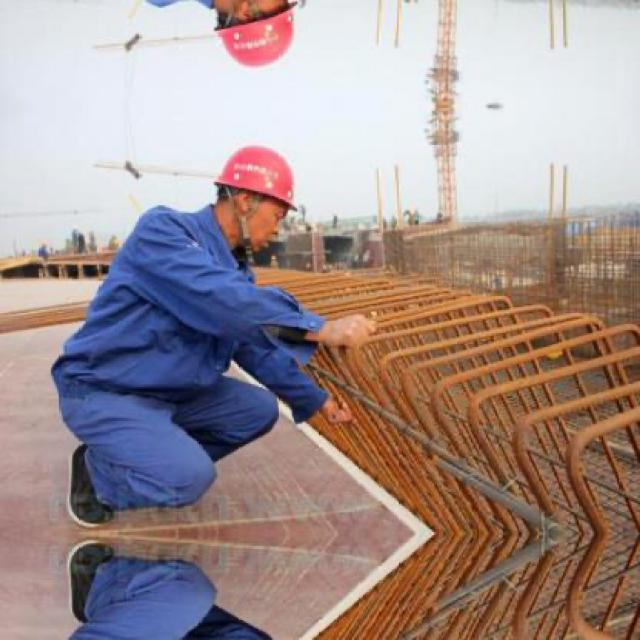helmet: (202, 137, 312, 245), (200, 0, 312, 77)
